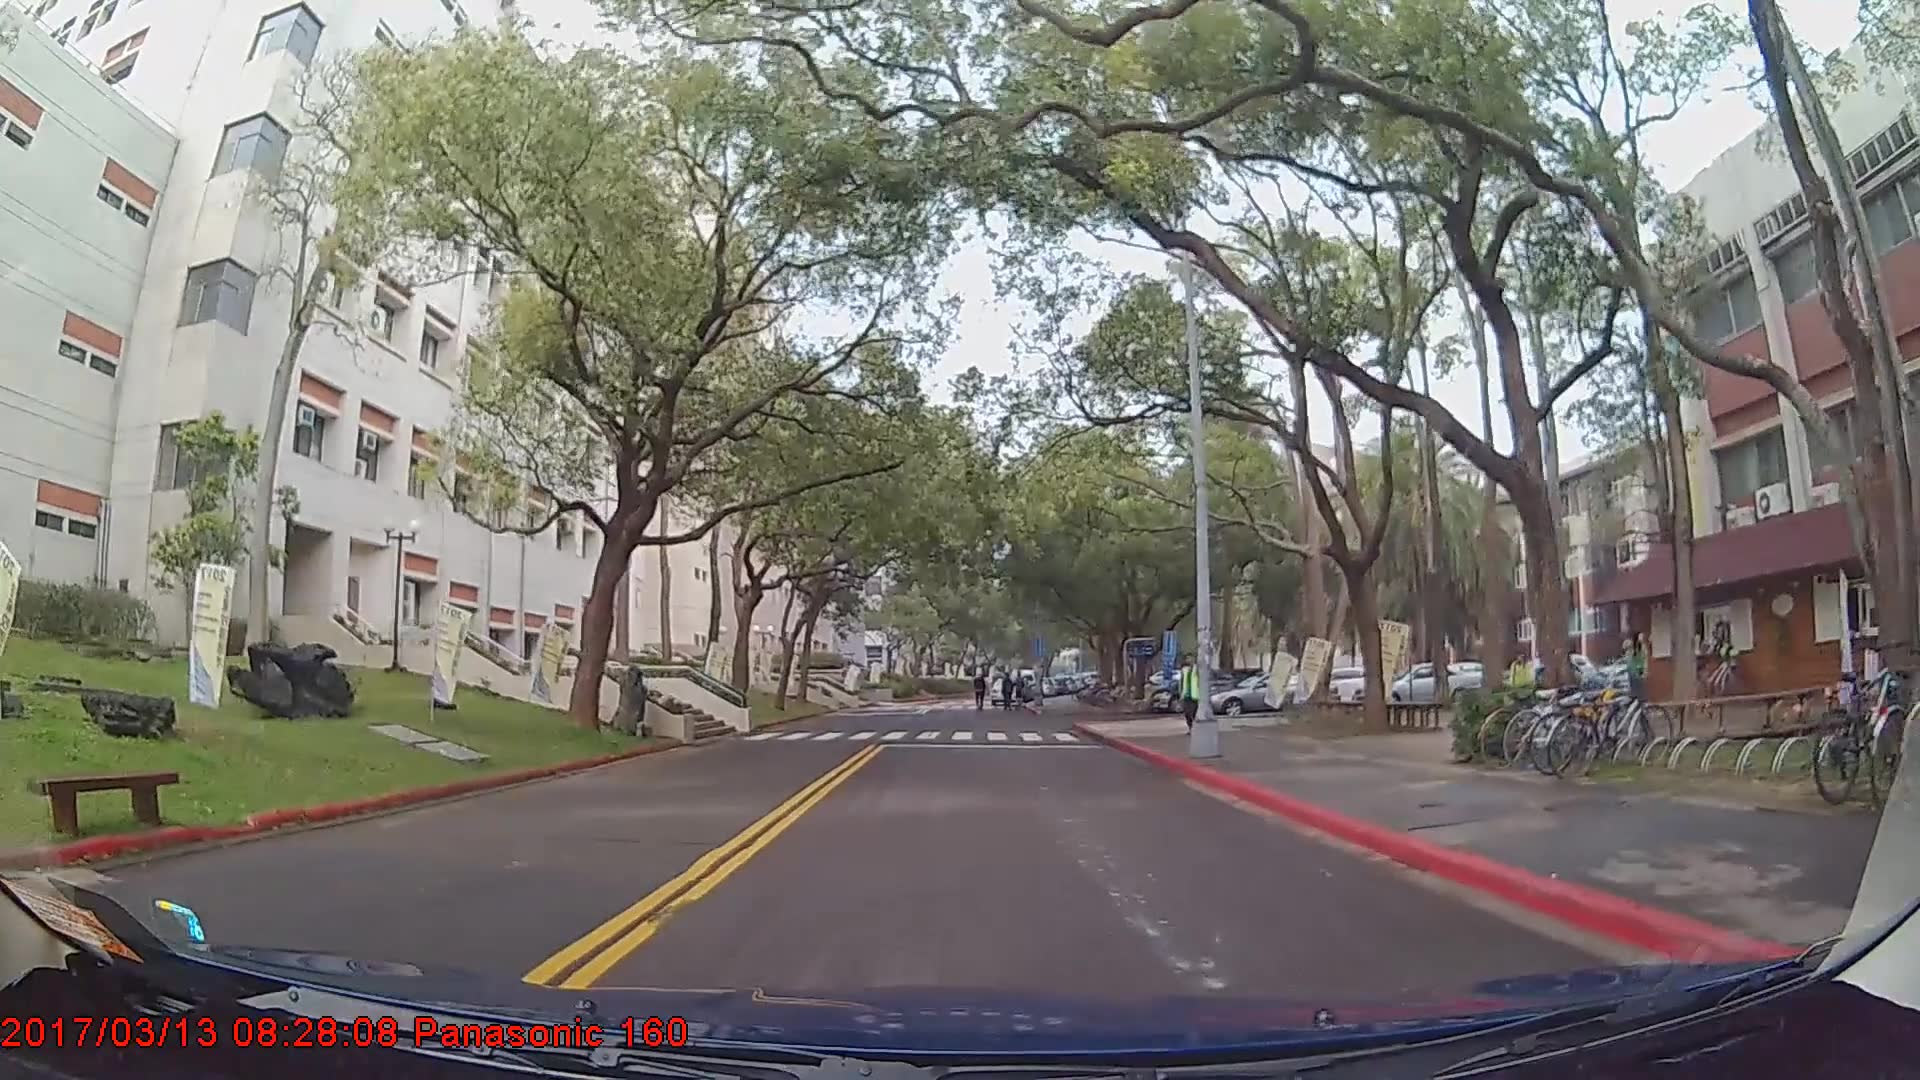pedestrian: (1175, 654, 1209, 743), (1510, 649, 1534, 716)
vehicle: (1351, 663, 1483, 708), (1208, 670, 1337, 715)
